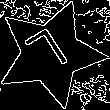L_SE: (24, 24, 77, 83)
